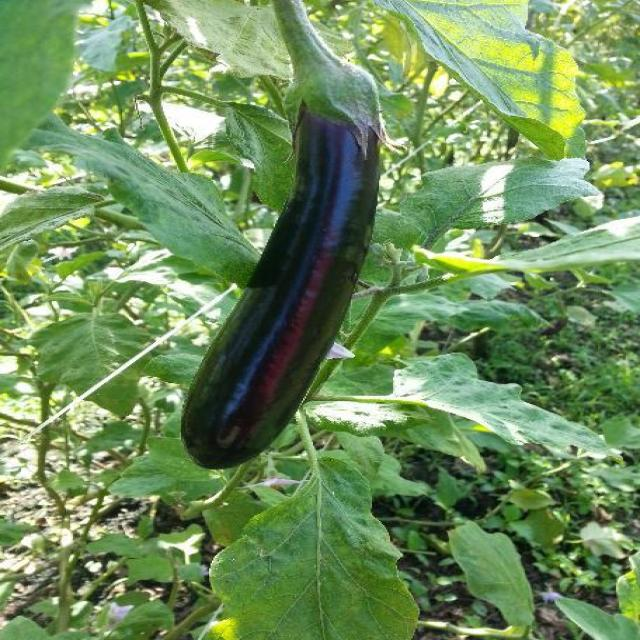eggplant: (174, 61, 390, 477)
